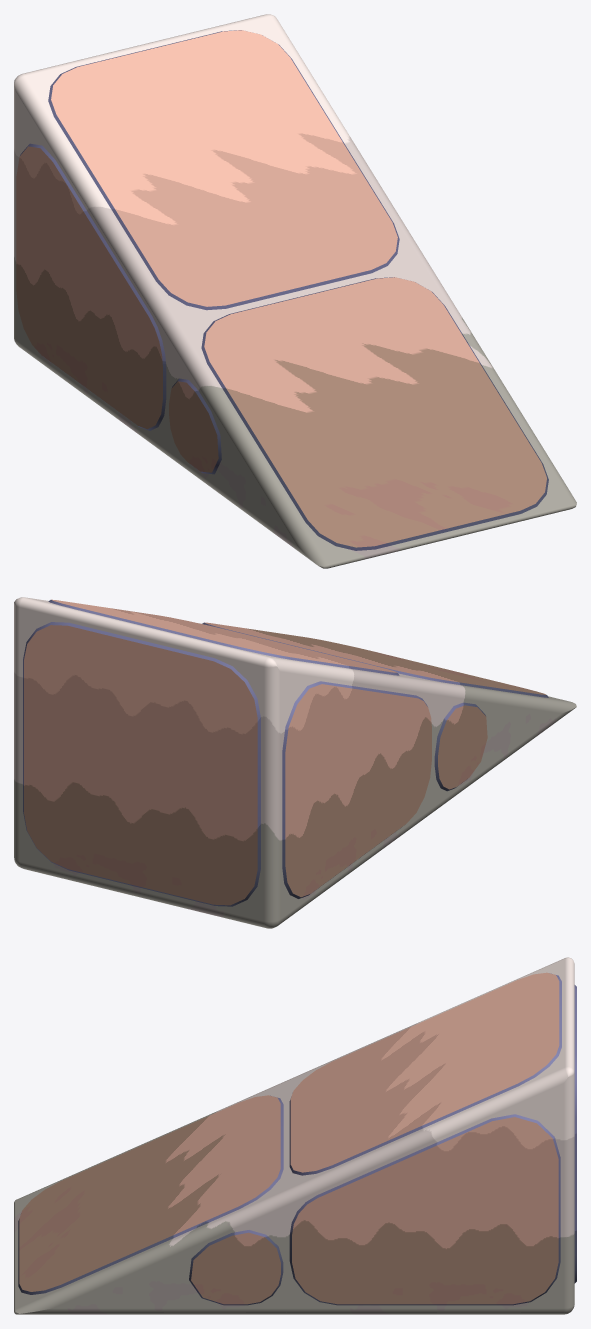
File: R4B_LongWedge.glb
3 views of the same model, one above another, from view 1: azimuth 30°, elevation 25°; view 2: azimuth 150°, elevation 25°; view 3: azimuth 270°, elevation 25° (orthographic). The views are drawn at different scales.
Parts seen in each view (by area): view 1: R4B_LongWedge; view 2: R4B_LongWedge; view 3: R4B_LongWedge.
Boxes of the visible parts, <box> form: R4B_LongWedge: <box>14,14,576,568</box>; R4B_LongWedge: <box>14,597,576,928</box>; R4B_LongWedge: <box>14,957,576,1314</box>.
Bounding box in the file's own units: 0.52 × 0.5061 × 1.04.
Materials: 3 (3 with a texture image).
